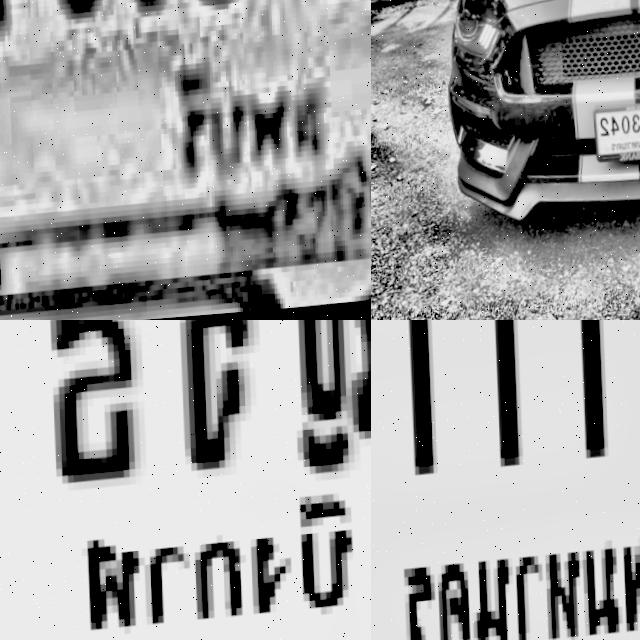license-plate: (0, 320, 371, 640), (0, 0, 371, 303), (371, 320, 640, 640), (586, 99, 640, 177)
